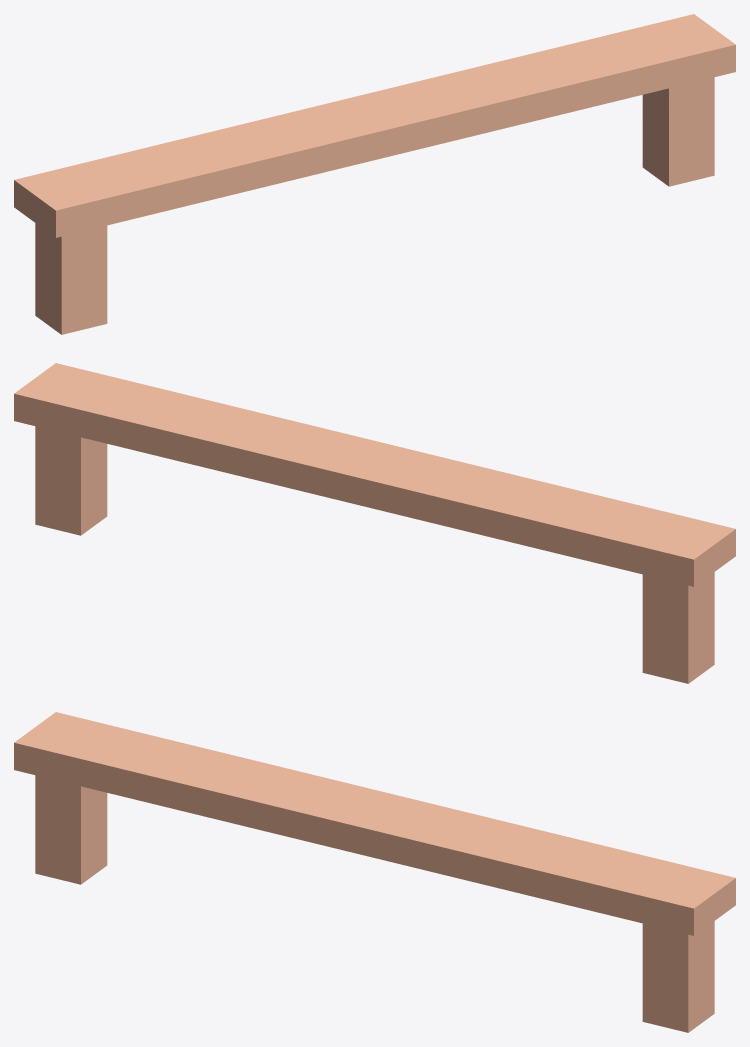
Rendered from fence_simpleLow.gltf.
3 views of the same model, one above another, from view 1: azimuth 30°, elevation 25°; view 2: azimuth 150°, elevation 25°; view 3: azimuth 330°, elevation 25° (orthographic).
Parts seen in each view (by area): view 1: fence_simpleLow; view 2: fence_simpleLow; view 3: fence_simpleLow.
Part boxes in pixels (bbox=[...]): fence_simpleLow: bbox=[14, 14, 735, 334]; fence_simpleLow: bbox=[14, 363, 735, 683]; fence_simpleLow: bbox=[14, 712, 735, 1032].
Size of the model in its own units: 1.04 by 0.195 by 0.1112.
